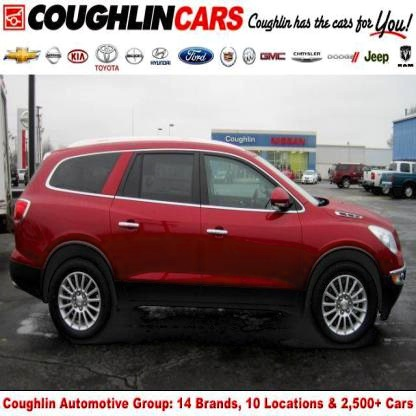Vehicle: (12, 146, 407, 348)
